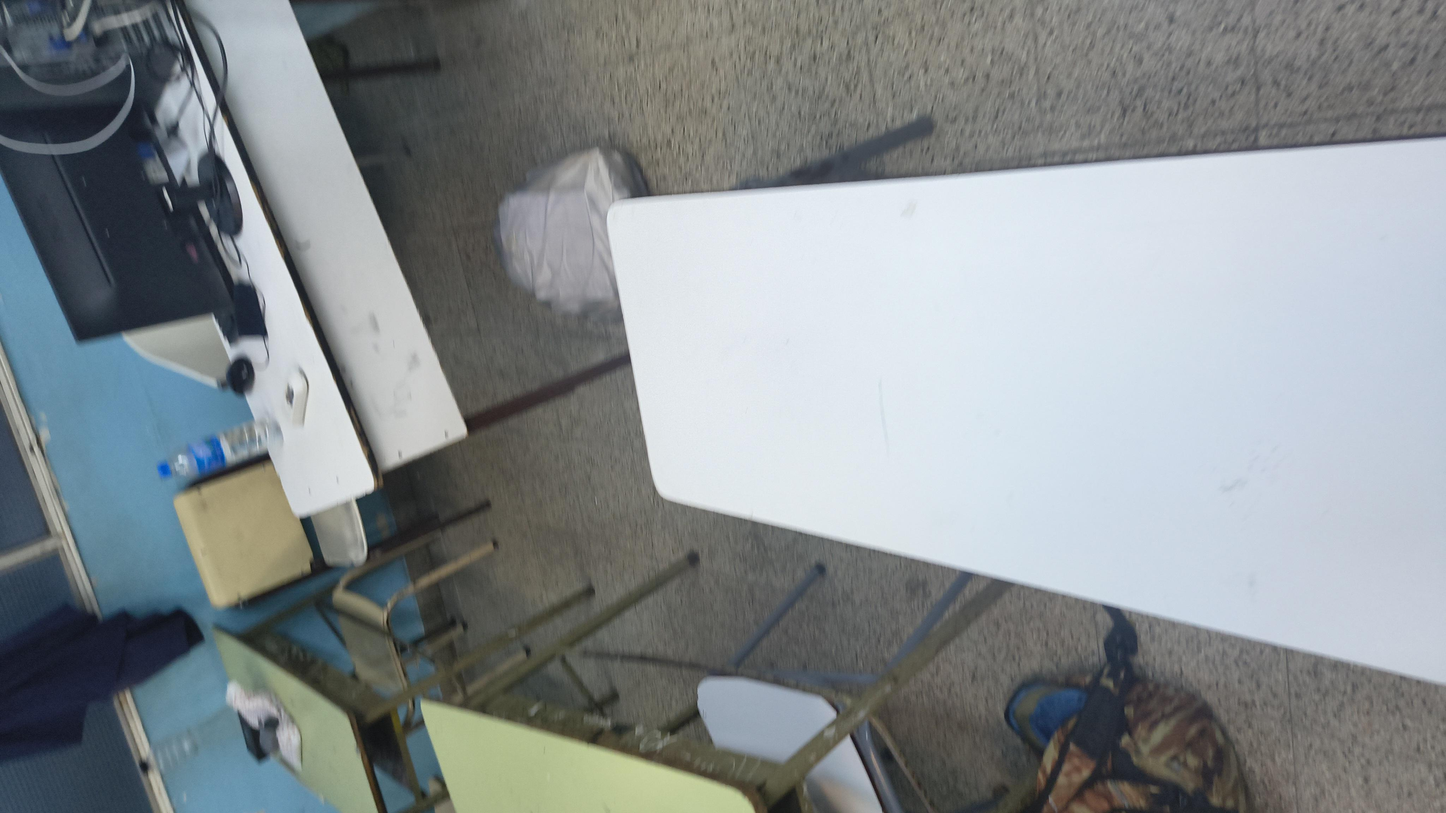Garbage: (810, 260, 1274, 373)
